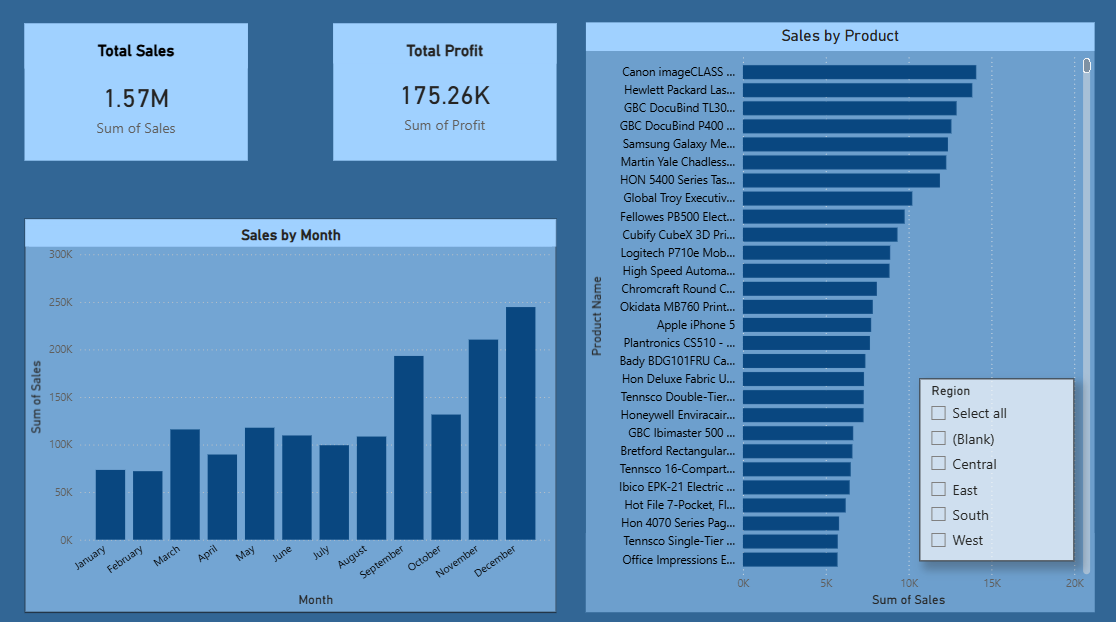

What the dashboard file says about the page in this screenshot:
{"tool":"powerbi","page":{"name":"Page 1","canvas":[1280,720],"ordinal":0},"visuals":[{"type":"card","title":" Total Sales","fields":{"Values":["Sum(SuperStore_Sales_Dataset (1).Sales)"]},"box":[31.6,31,255.2,156.4],"z":0},{"type":"card","title":"Total Profit","fields":{"Values":["Sum(SuperStore_Sales_Dataset (1).Profit)"]},"box":[384.2,31.6,255.2,156.4],"z":1000},{"type":"clusteredColumnChart","title":" Sales by Month","fields":{"Category":["SuperStore_Sales_Dataset (1).Order Date.Variation.Date Hierarchy.Month"],"Y":["Sum(SuperStore_Sales_Dataset (1).Sales)"]},"box":[31.6,253.9,607.9,450.1],"z":2000},{"type":"clusteredBarChart","title":" Sales by Product ","fields":{"Category":["SuperStore_Sales_Dataset (1).Product Name"],"Y":["Sum(SuperStore_Sales_Dataset (1).Sales)"]},"box":[672.4,30.7,581.6,673.6],"z":3000},{"type":"slicer","fields":{"Values":["SuperStore_Sales_Dataset (1).Region"]},"box":[1054,436.8,176.7,208.6],"z":3001}]}

Visuals, with their boxes in screenshot pixels (x1, y1, x2, y2), scaled from the page's 1280x720 canvas onto the 1116x622 screenshot:
" Total Sales" card: (left=28, top=27, right=250, bottom=162)
"Total Profit" card: (left=335, top=27, right=557, bottom=162)
" Sales by Month" clusteredColumnChart: (left=28, top=219, right=558, bottom=608)
" Sales by Product " clusteredBarChart: (left=586, top=27, right=1093, bottom=608)
slicer - SuperStore_Sales_Dataset (1).Region: (left=919, top=377, right=1073, bottom=558)
